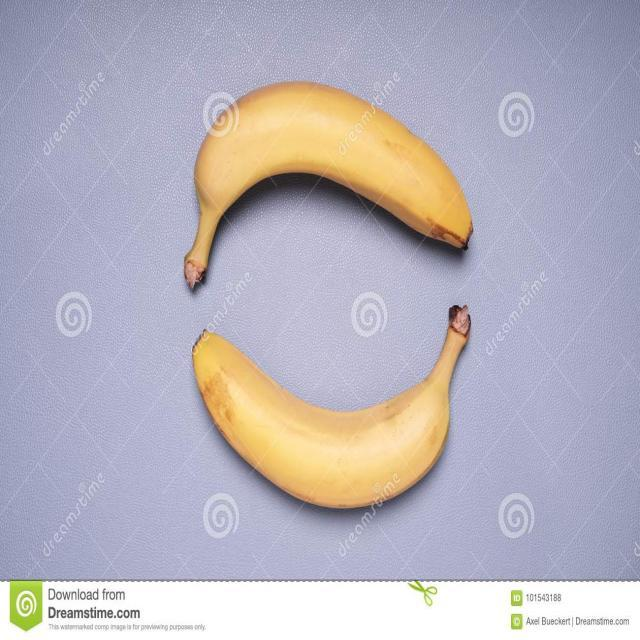Banana: (191, 78, 481, 298), (195, 302, 472, 512)
